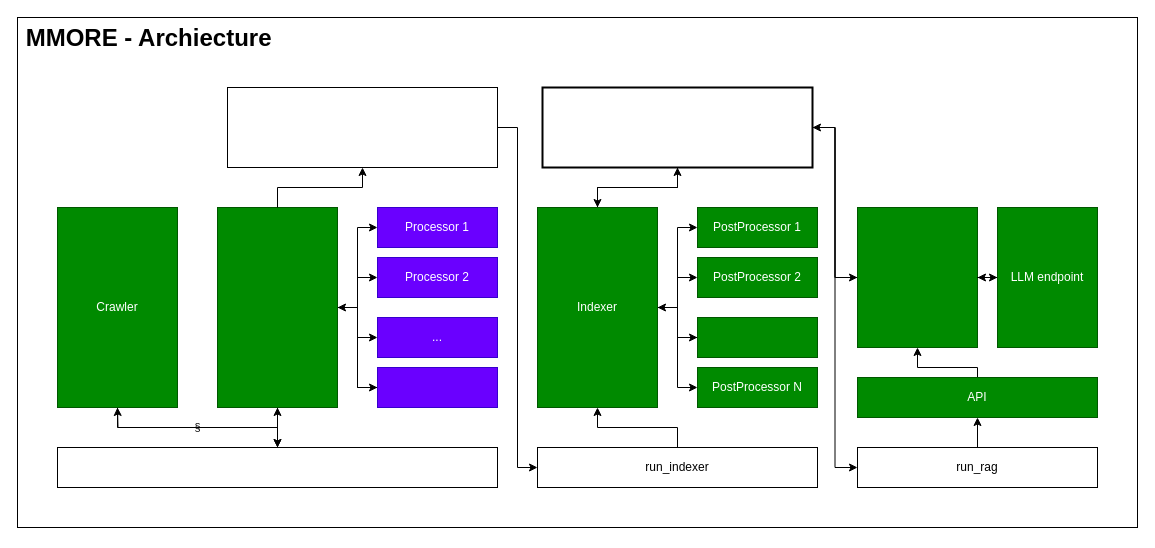
The diagram is 1155 pixels wide and 548 high, and some of its shapes have lost their labels. The centre of each missing label's shape, as x and y in pixels:
Dispatcher: the point at 277,307
output_folder: the point at 362,127
PostProcessor ...: the point at 757,337
Processor N: the point at 437,387
RAG: the point at 917,277
run_process: the point at 277,467
Vector DB: the point at 677,127
